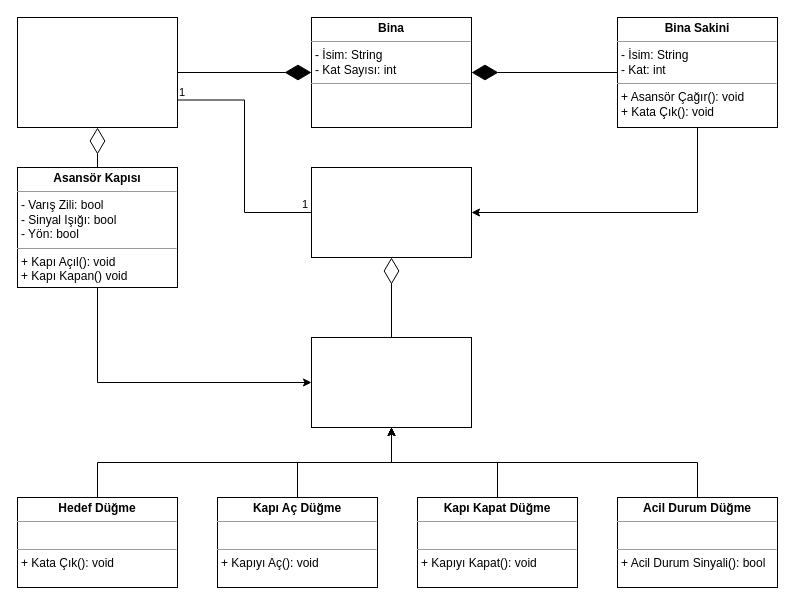
This 795x605 diagram has some shape labels left out. Here are the shapes that lost their labels. From the top down, the centre of each, then its label:
(x=97, y=72): Asansör - Kapı Sayısı: int - Yolcu Sayısı: int
(x=391, y=212): Kontrol Paneli - Kat Gösterge Işığı: int - Düğme Sayısı: int
(x=391, y=382): Düğme - İşlev: int + Bas(): void
